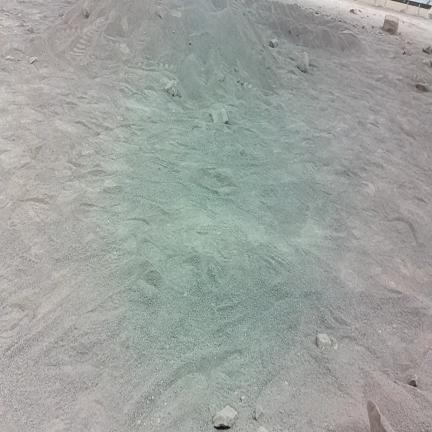Rock: (368, 401, 392, 431), (213, 406, 237, 428), (383, 15, 398, 34), (296, 52, 309, 73), (165, 81, 181, 97), (211, 109, 228, 124), (316, 334, 331, 350), (415, 80, 430, 92), (289, 25, 301, 37), (157, 6, 168, 19), (255, 405, 264, 420), (83, 2, 90, 18), (408, 376, 417, 387), (269, 39, 278, 48), (423, 46, 431, 54), (403, 47, 411, 55), (30, 57, 38, 64), (27, 26, 34, 33), (423, 60, 431, 66), (428, 10, 432, 20), (258, 427, 267, 431), (240, 396, 245, 402), (350, 9, 356, 14), (59, 11, 63, 17), (362, 25, 365, 29)
